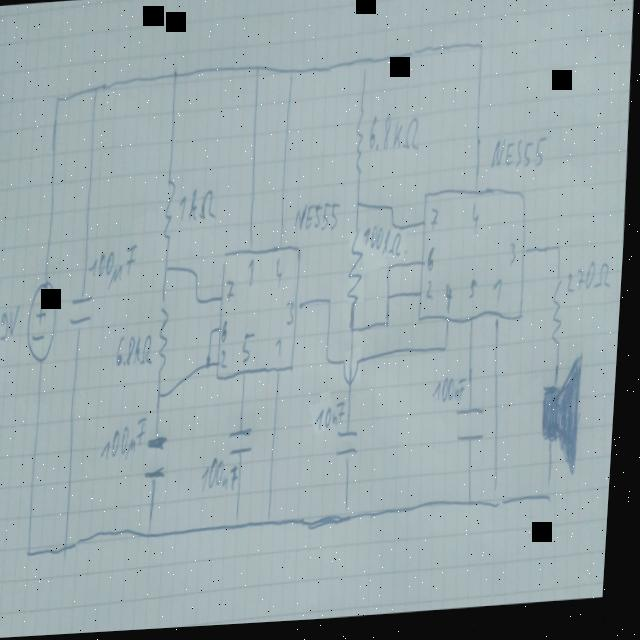capacitor: (456, 409, 493, 455), (148, 434, 175, 489), (230, 425, 263, 465), (71, 294, 99, 333), (338, 429, 367, 464)
crossover: (344, 356, 367, 394)
junction: (494, 474, 512, 521), (146, 515, 163, 562), (63, 533, 82, 571), (547, 474, 564, 516), (26, 533, 44, 572), (268, 501, 285, 542), (468, 485, 484, 524), (346, 499, 362, 538), (237, 505, 252, 544), (358, 53, 374, 88), (205, 352, 220, 384), (556, 239, 569, 271), (349, 322, 365, 348), (475, 38, 488, 69), (90, 75, 103, 105), (286, 64, 299, 94), (386, 288, 400, 315), (355, 195, 368, 223), (385, 315, 398, 342), (327, 292, 339, 321), (253, 59, 264, 90), (325, 350, 337, 375), (171, 67, 182, 90), (388, 203, 401, 222), (159, 386, 170, 408), (165, 261, 176, 281), (388, 261, 397, 285), (212, 323, 221, 346), (54, 91, 63, 113), (196, 289, 205, 311), (195, 266, 204, 286), (445, 343, 453, 364), (392, 223, 401, 237)
resistor: (347, 222, 371, 320), (551, 276, 572, 365), (163, 169, 183, 257), (353, 103, 370, 188), (157, 306, 175, 382)
source: (27, 277, 62, 366)
text: (367, 110, 423, 163), (101, 414, 154, 466), (90, 243, 141, 292), (567, 260, 618, 307), (492, 139, 550, 178), (294, 200, 345, 243), (116, 329, 159, 376), (180, 185, 221, 232), (204, 455, 245, 502), (364, 224, 407, 268), (436, 378, 474, 419), (318, 402, 353, 440), (2, 301, 26, 344), (245, 334, 259, 368), (446, 286, 459, 320), (472, 206, 484, 241), (494, 279, 506, 312), (510, 245, 521, 278), (278, 259, 287, 291), (250, 259, 259, 291), (228, 281, 239, 307), (432, 209, 441, 238), (289, 301, 298, 329), (430, 250, 439, 277), (472, 281, 481, 307), (277, 340, 287, 362), (428, 282, 437, 306), (224, 351, 233, 373), (225, 320, 232, 348)
